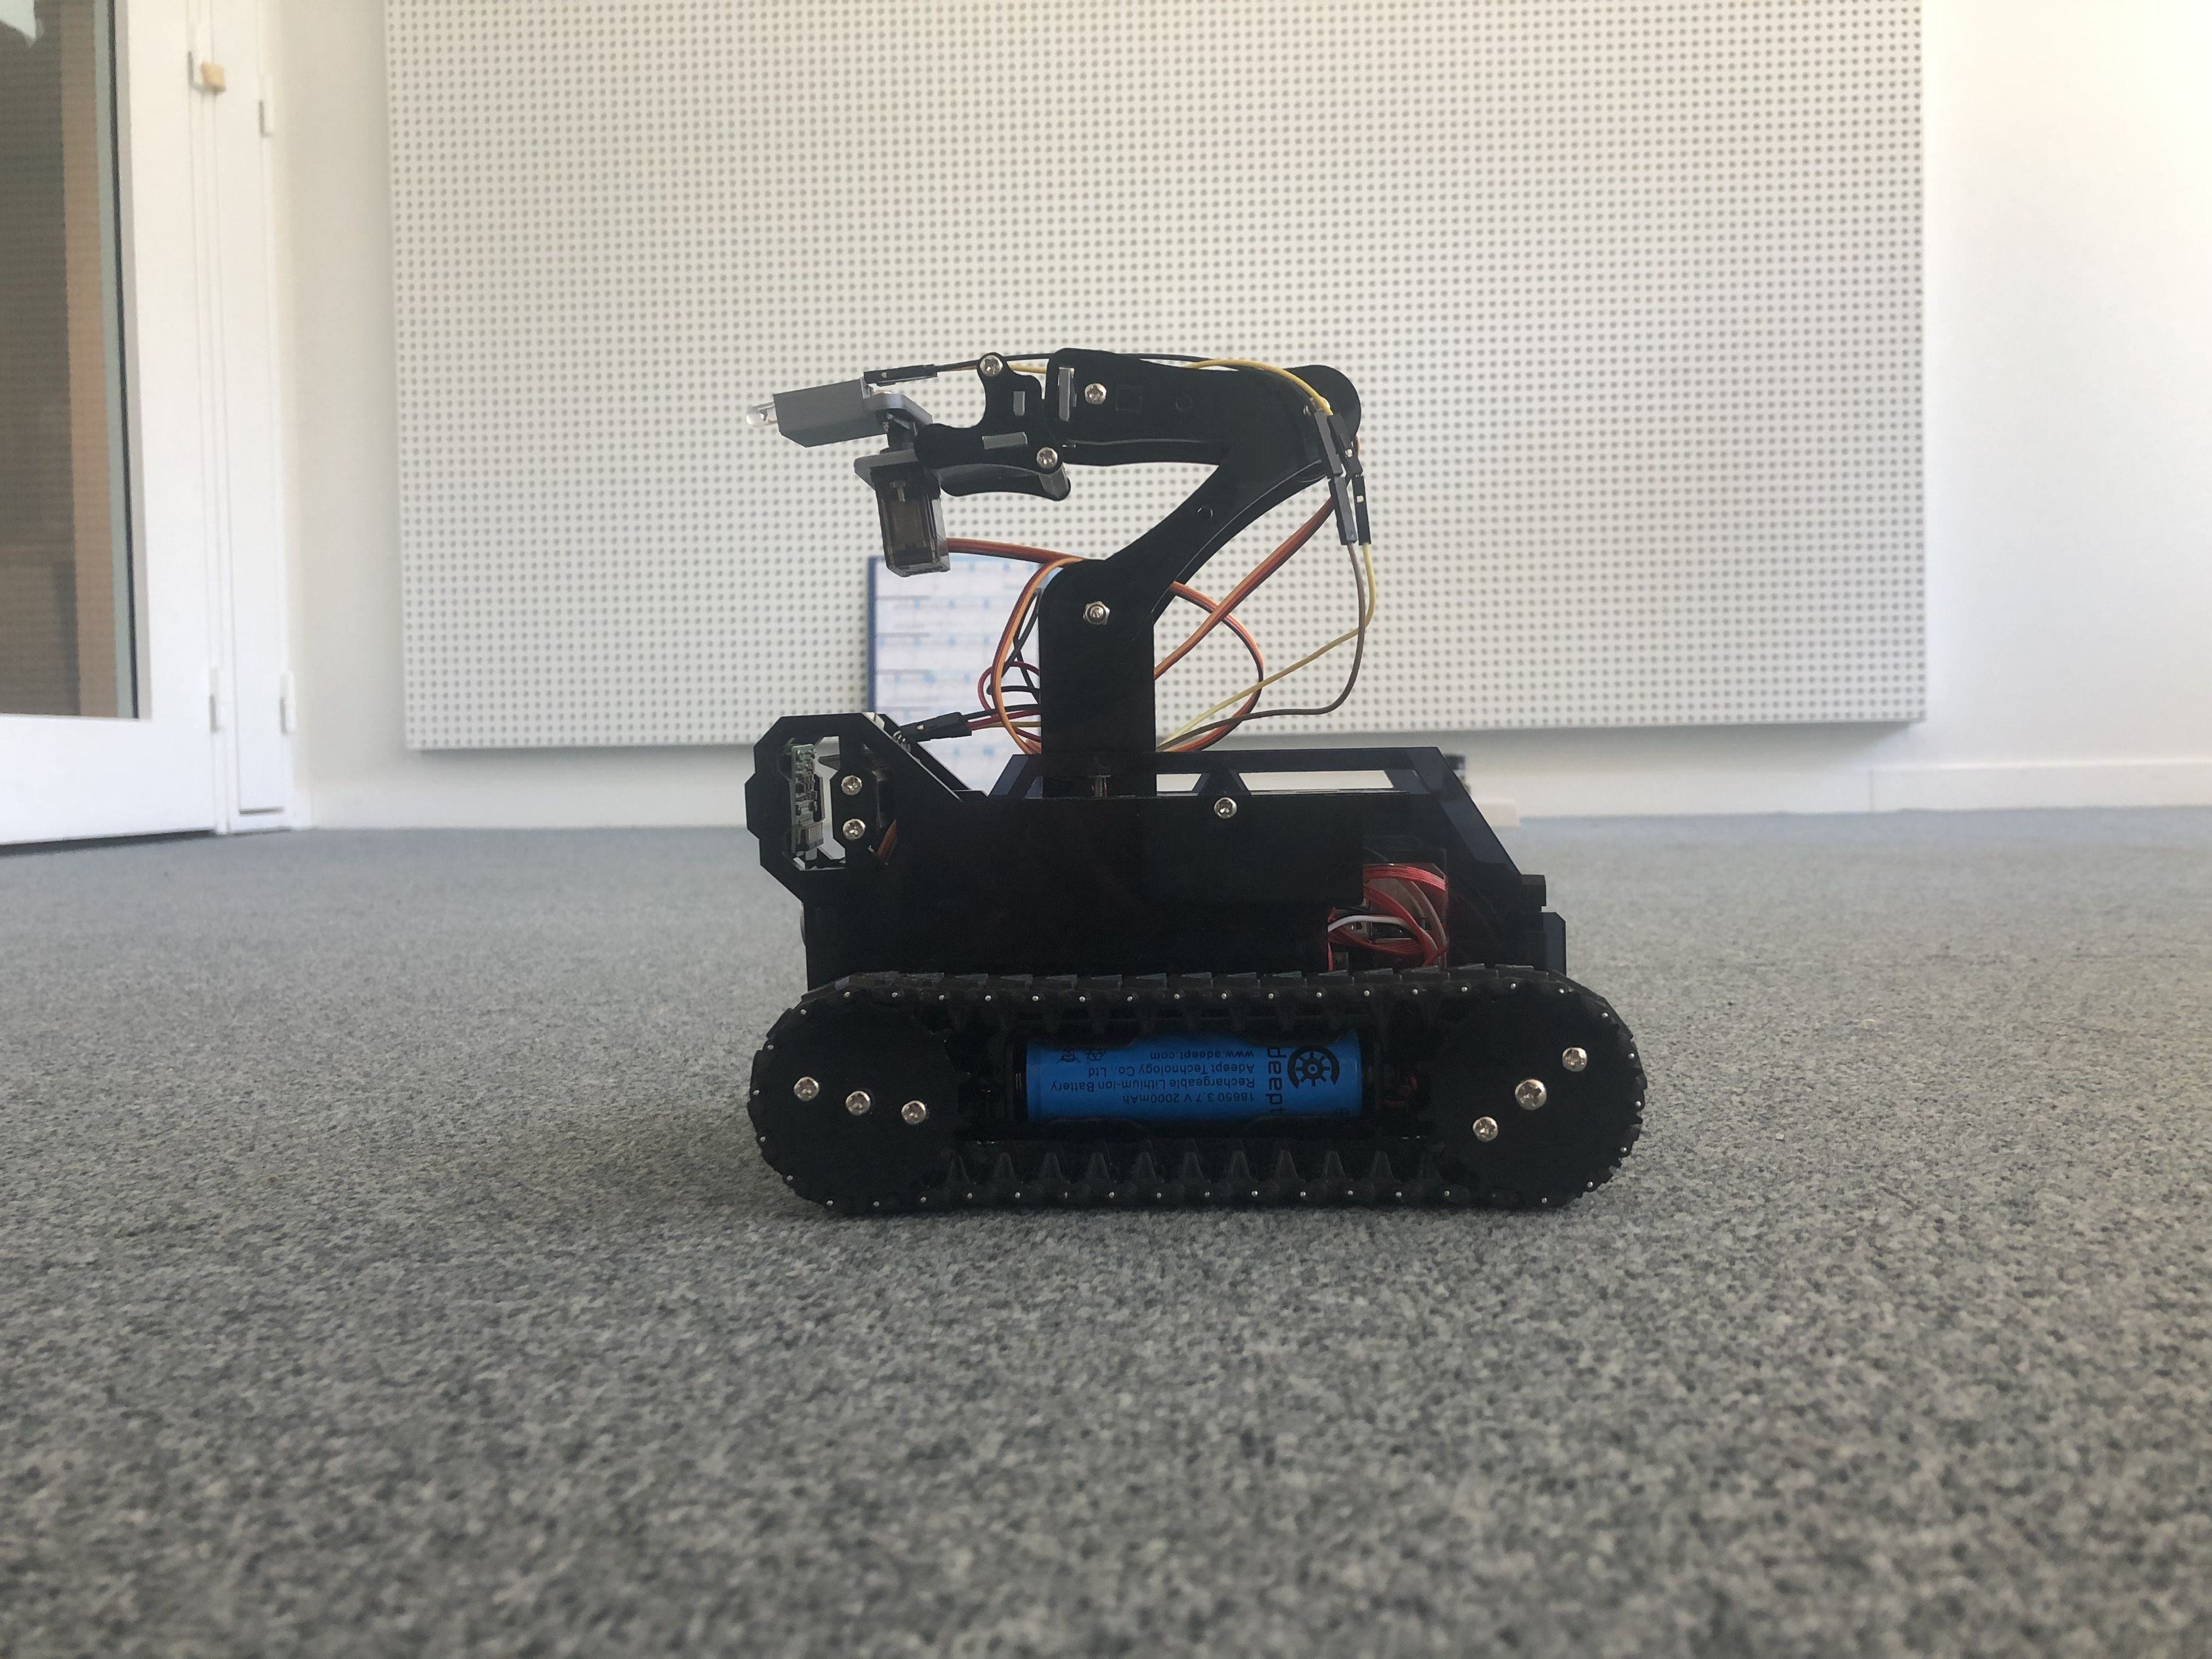rasptank: (718, 336, 1658, 1223)
